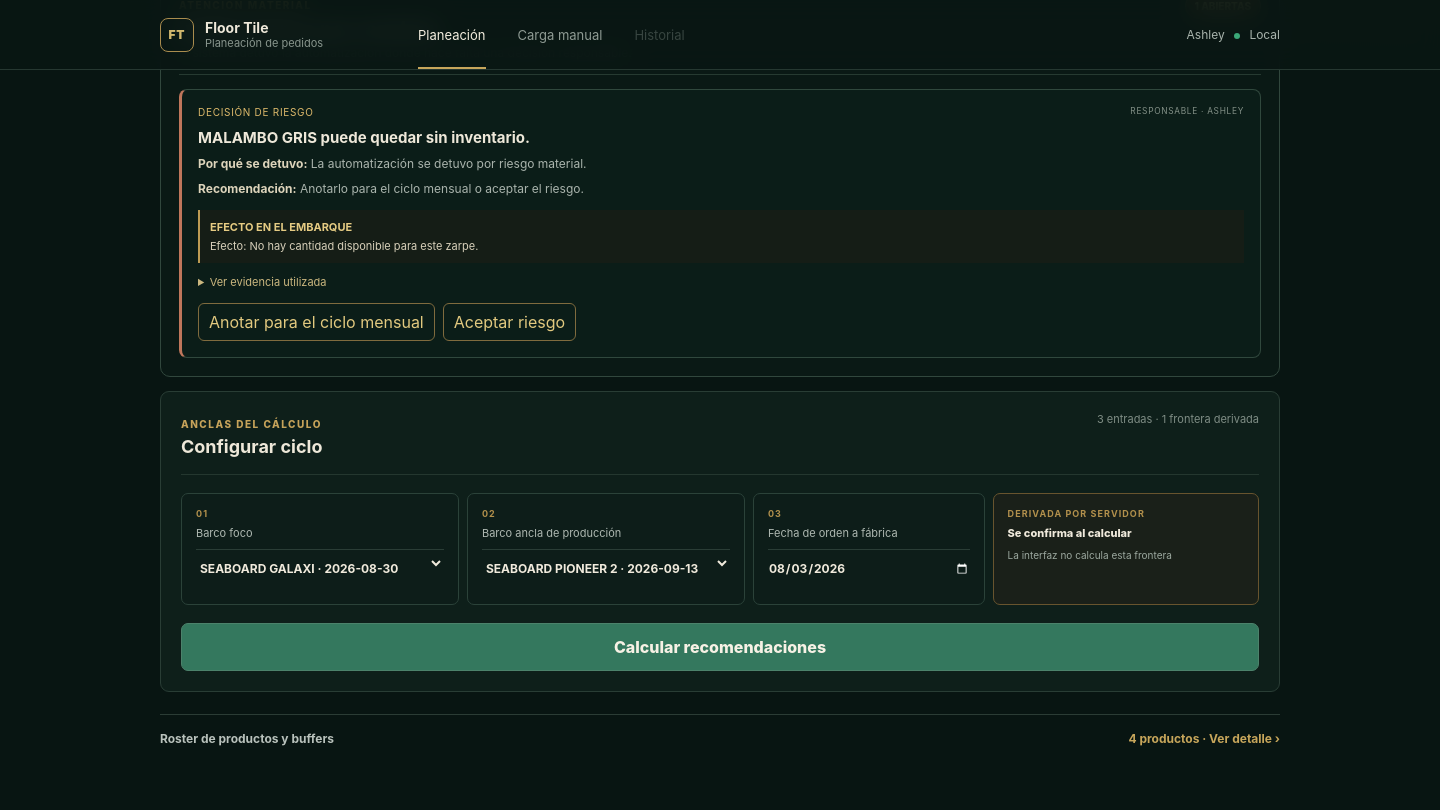
Test case: three-anchor composer › keeps shipment saving and shipment finalization as separate controls when both are legal
(page scrolled)
Click the button "Calcular recomendaciones" at (720, 647), box [181,623,1259,671]
(page scrolled)
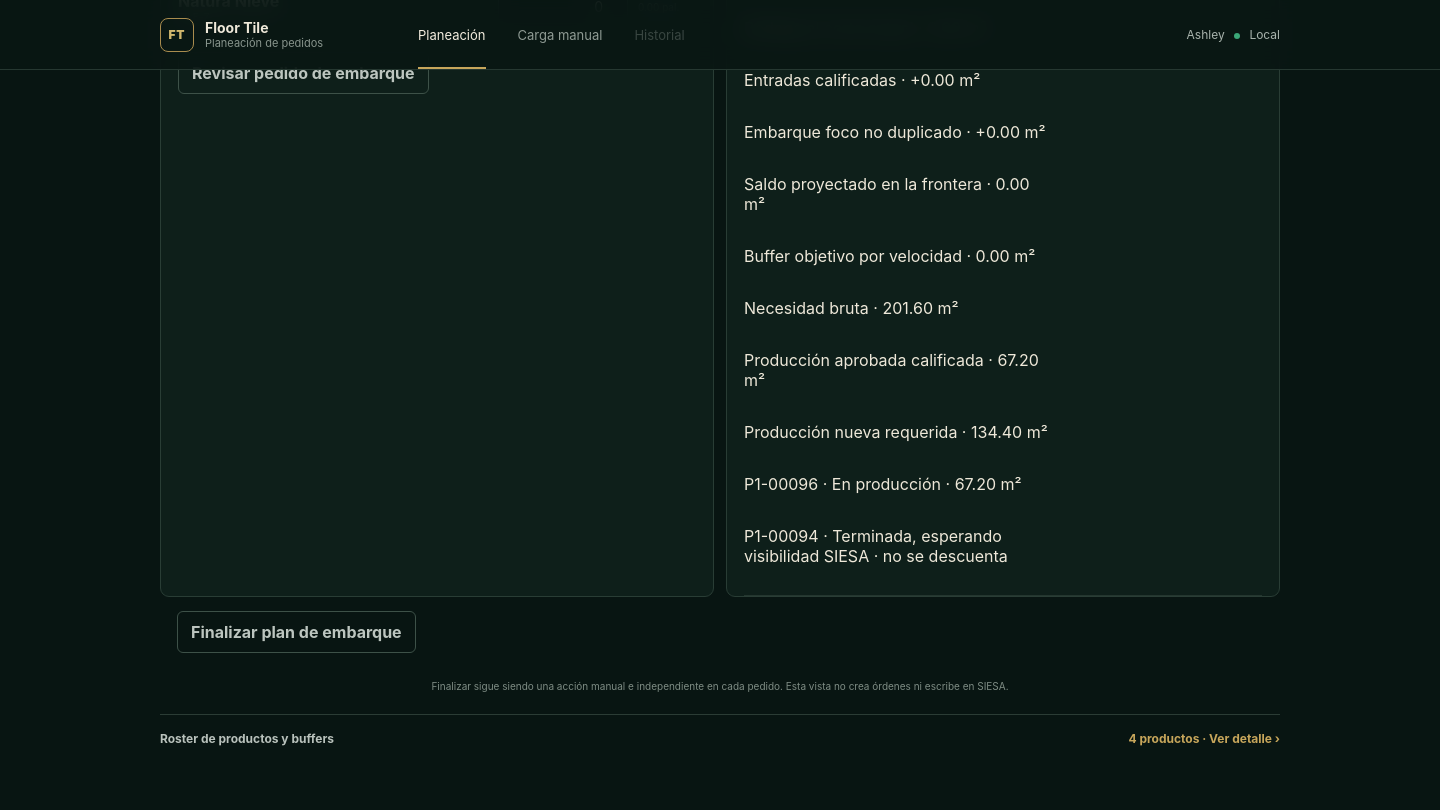
Expected: the button "Revisar pedido de embarque" is shown, [178,52,428,94]
Expected: the button "Finalizar plan de embarque" is shown, [177,611,416,653]
